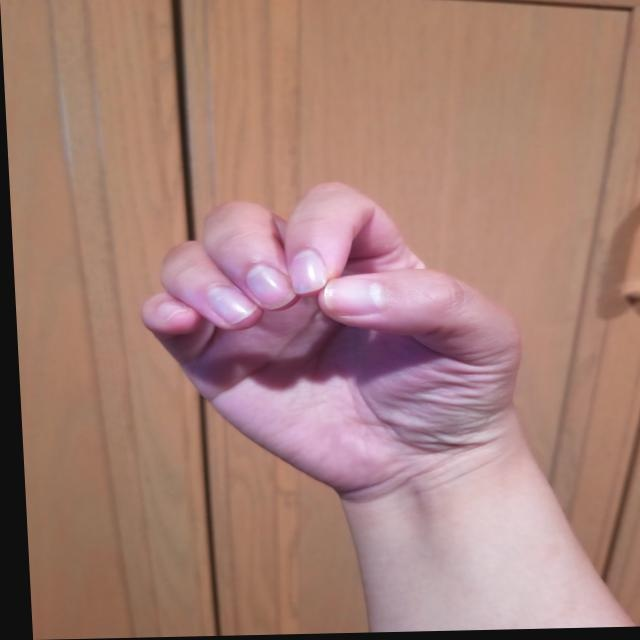O: (126, 175, 535, 500)
